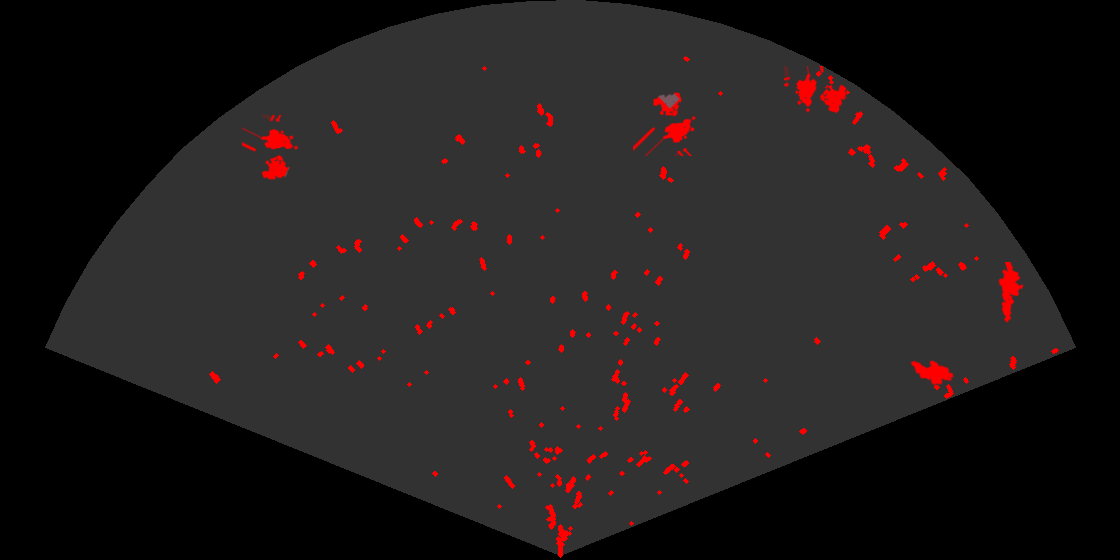AUV: (909, 359, 956, 387)
cage: (633, 91, 697, 156), (242, 115, 299, 182), (784, 66, 848, 115)
frogman: (997, 262, 1025, 325)
